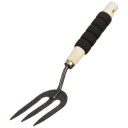fork: (10, 2, 124, 128)
